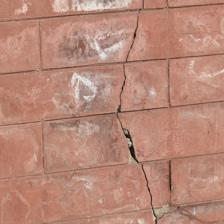Crack: (0, 0, 82, 100), (46, 26, 101, 137)
